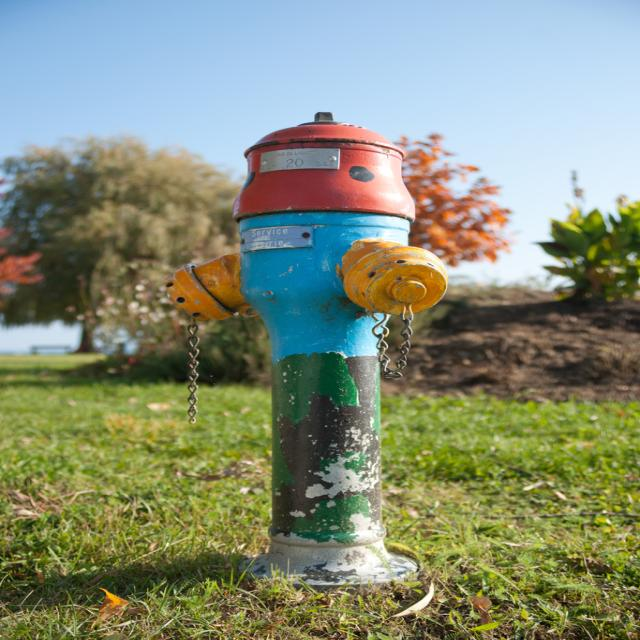fire_hydrant: (168, 114, 449, 583)
